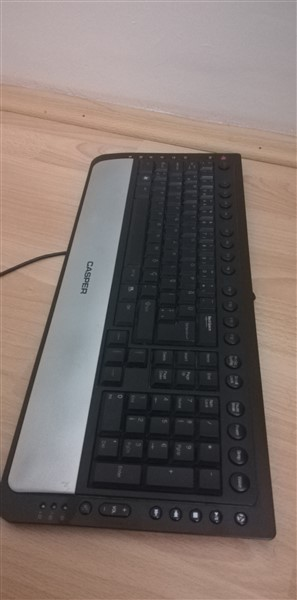klavye: (1, 149, 277, 532)
